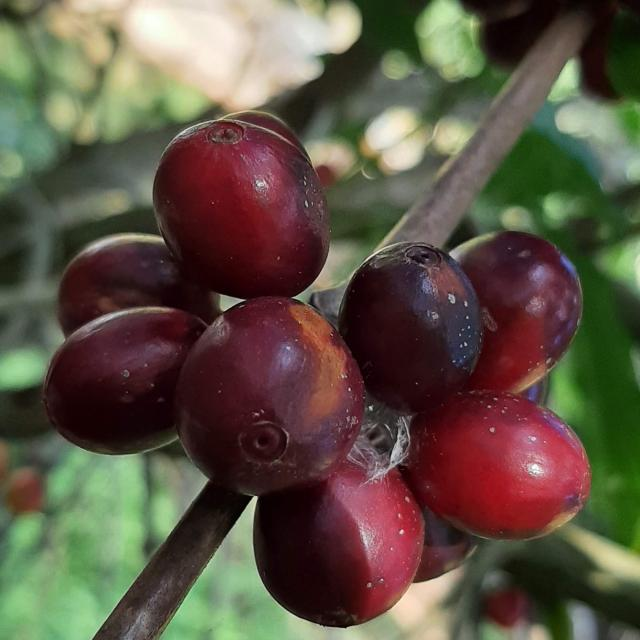red: (175, 297, 365, 496), (152, 118, 329, 298), (403, 391, 593, 541), (254, 461, 424, 628), (339, 242, 484, 414), (42, 307, 206, 455), (450, 231, 584, 394), (57, 233, 221, 337), (414, 508, 478, 584)
